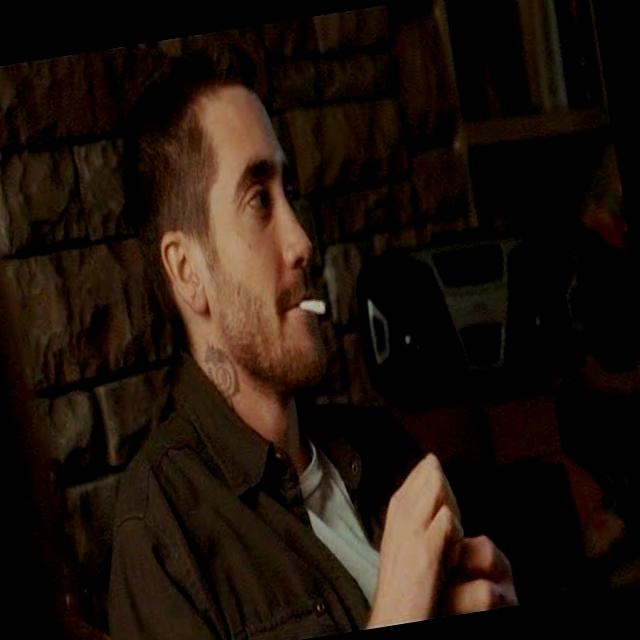smoke: (289, 276, 333, 331)
